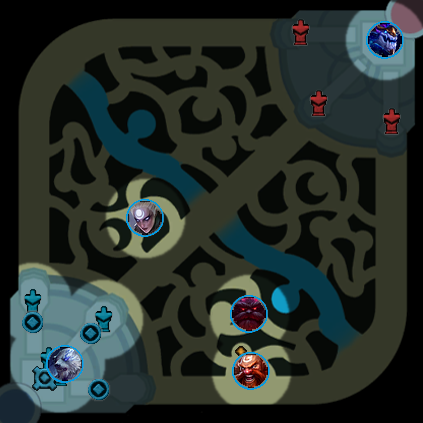AurelionSol: (366, 21, 404, 59)
Diana: (126, 199, 164, 237)
Gragas: (232, 352, 270, 390)
Ornn: (230, 295, 268, 333)
Volibear: (46, 345, 84, 383)
